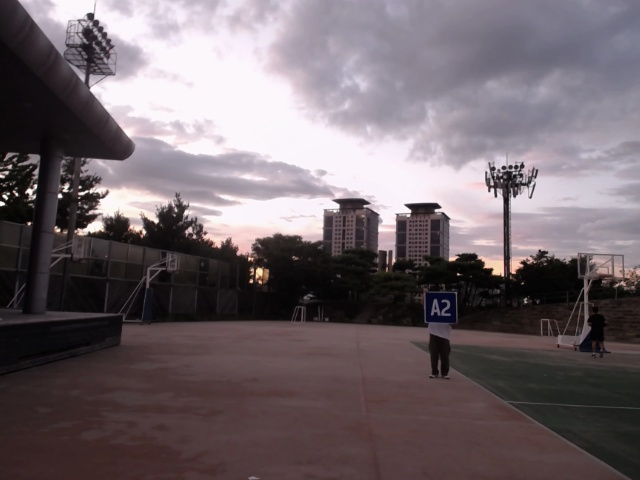delivery_a2: (425, 291, 458, 324)
